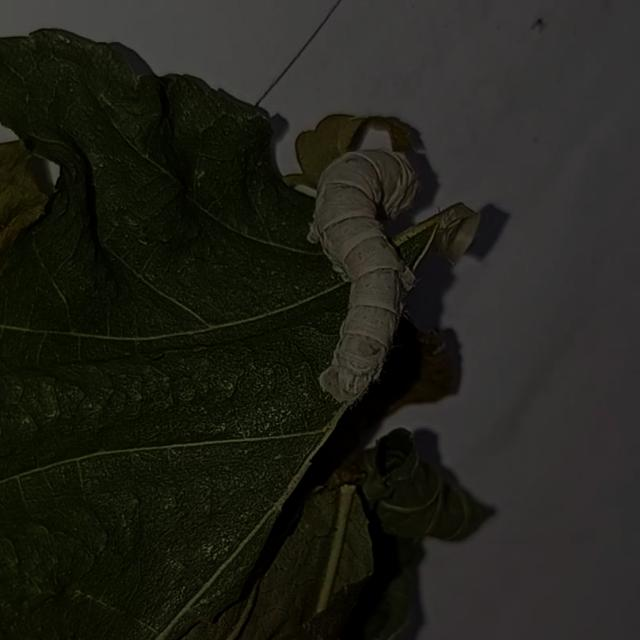Healthy: (287, 122, 450, 431)
